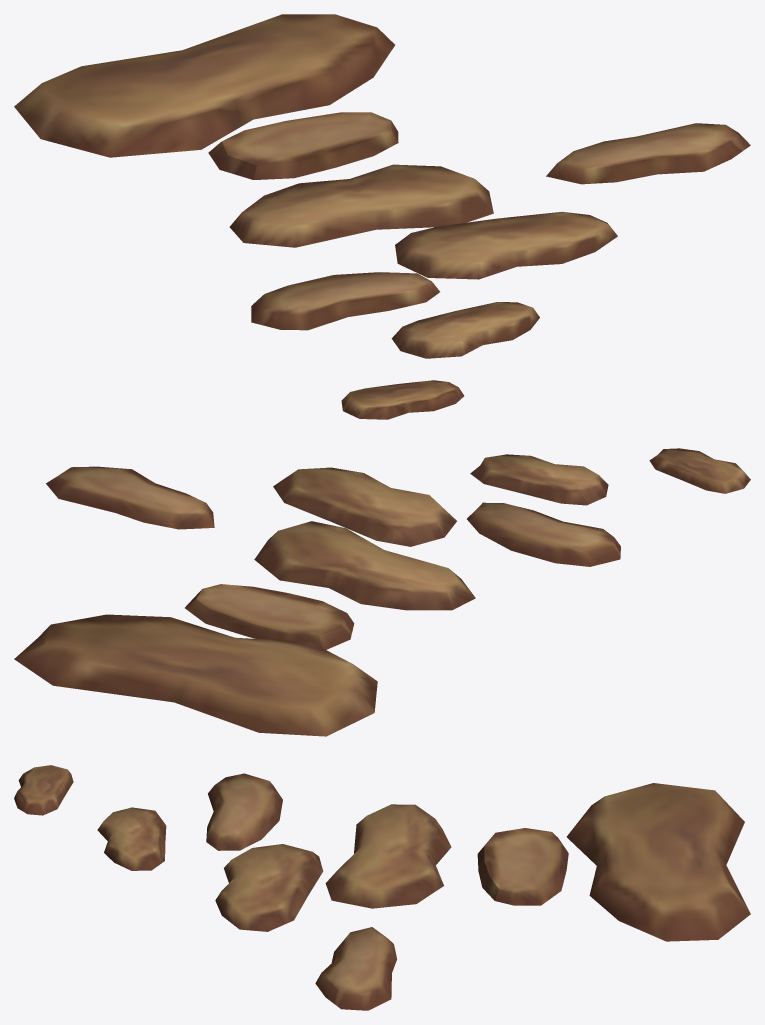
File: xiaoshitou02.FBX
3 views of the same model, one above another, from view 1: azimuth 30°, elevation 25°; view 2: azimuth 150°, elevation 25°; view 3: azimuth 270°, elevation 25° (orthographic). The views are drawn at different scales.
Parts seen in each view (by area): view 1: xiaoshitou02; view 2: xiaoshitou02; view 3: xiaoshitou02.
Boxes of the visible parts, box(x1,y1,x2,y2) form: xiaoshitou02: box(14, 14, 750, 419); xiaoshitou02: box(14, 448, 750, 736); xiaoshitou02: box(14, 765, 750, 1010).
Bounding box in the file's own units: 58.81 × 2.39 × 76.11.
